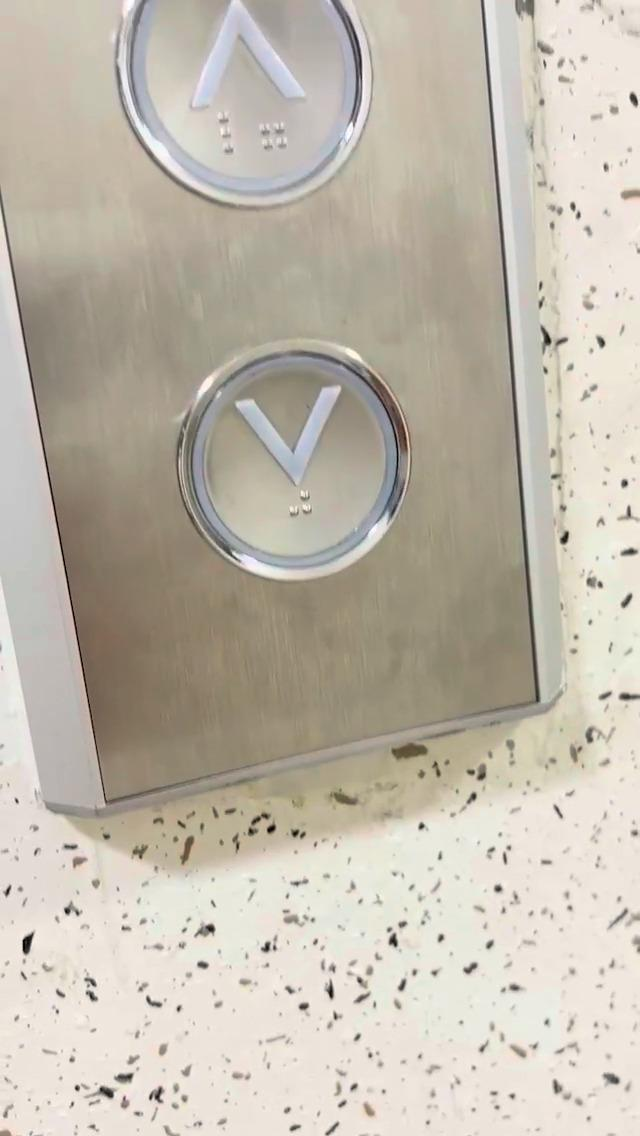button: (179, 349, 431, 566), (114, 0, 351, 211)
